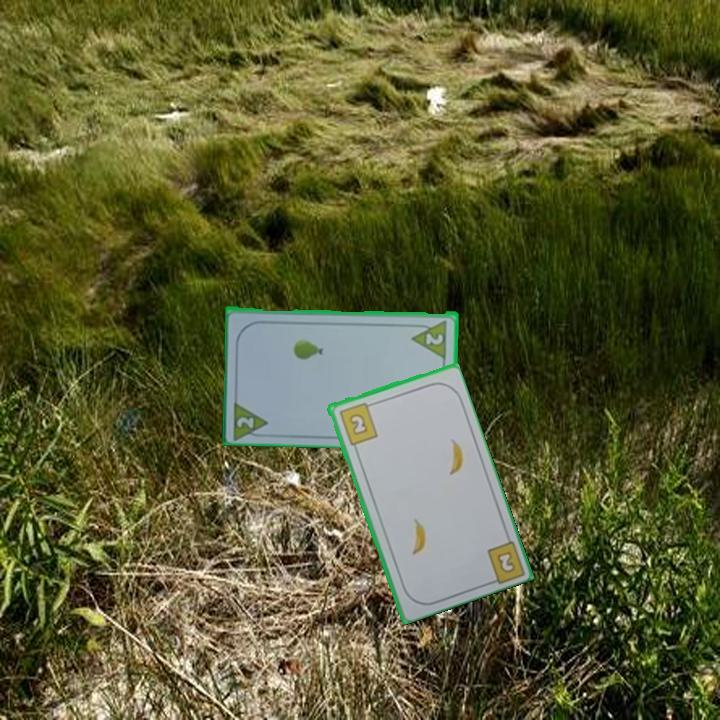2b: (335, 399, 380, 448), (493, 547, 518, 576)
2p: (422, 328, 446, 348), (233, 413, 257, 430)
